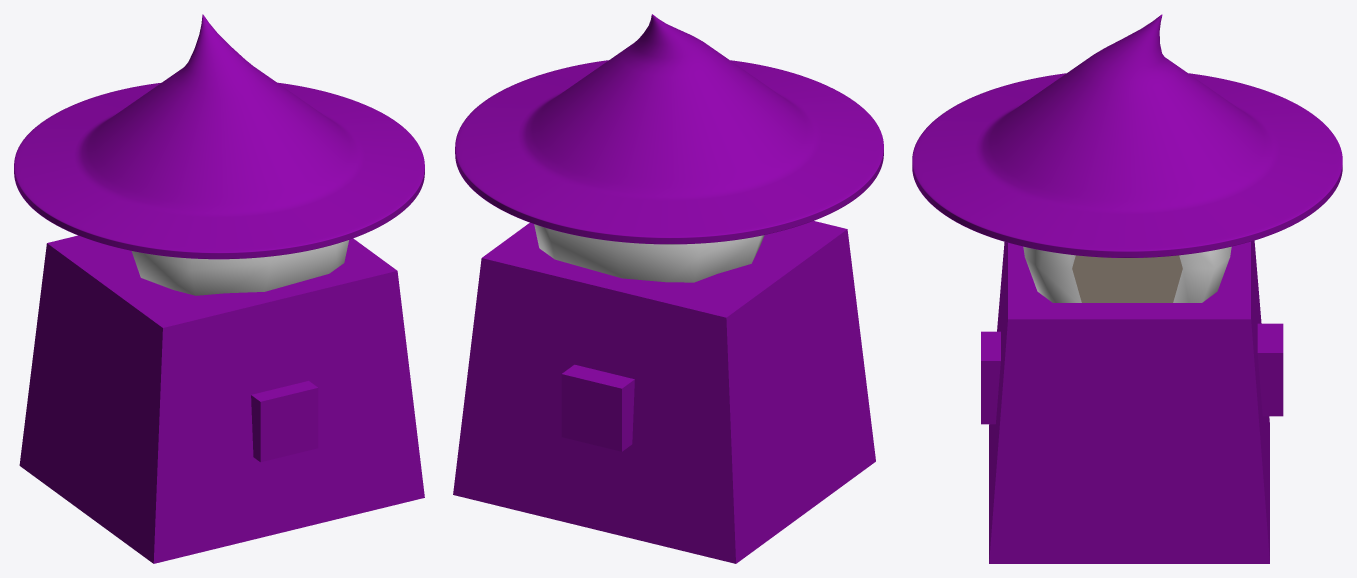
The model's file is wazerdunity.fbx.
3 renders of one model, left to right at view 1: azimuth 30°, elevation 25°; view 2: azimuth 150°, elevation 25°; view 3: azimuth 270°, elevation 25°, orthographic. The views are drawn at different scales.
Parts seen in each view (by area): view 1: polySurface2; view 2: polySurface2; view 3: polySurface2.
Boxes of the visible parts, x1,y1,x2,y2 form: polySurface2: [14, 14, 424, 563]; polySurface2: [453, 14, 883, 563]; polySurface2: [912, 14, 1342, 563].
Bounding box in the file's own units: 1.47 × 1.88 × 1.47.
